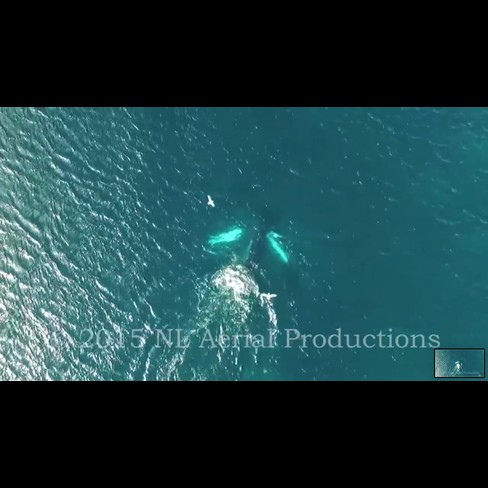hump: (201, 199, 294, 332)
